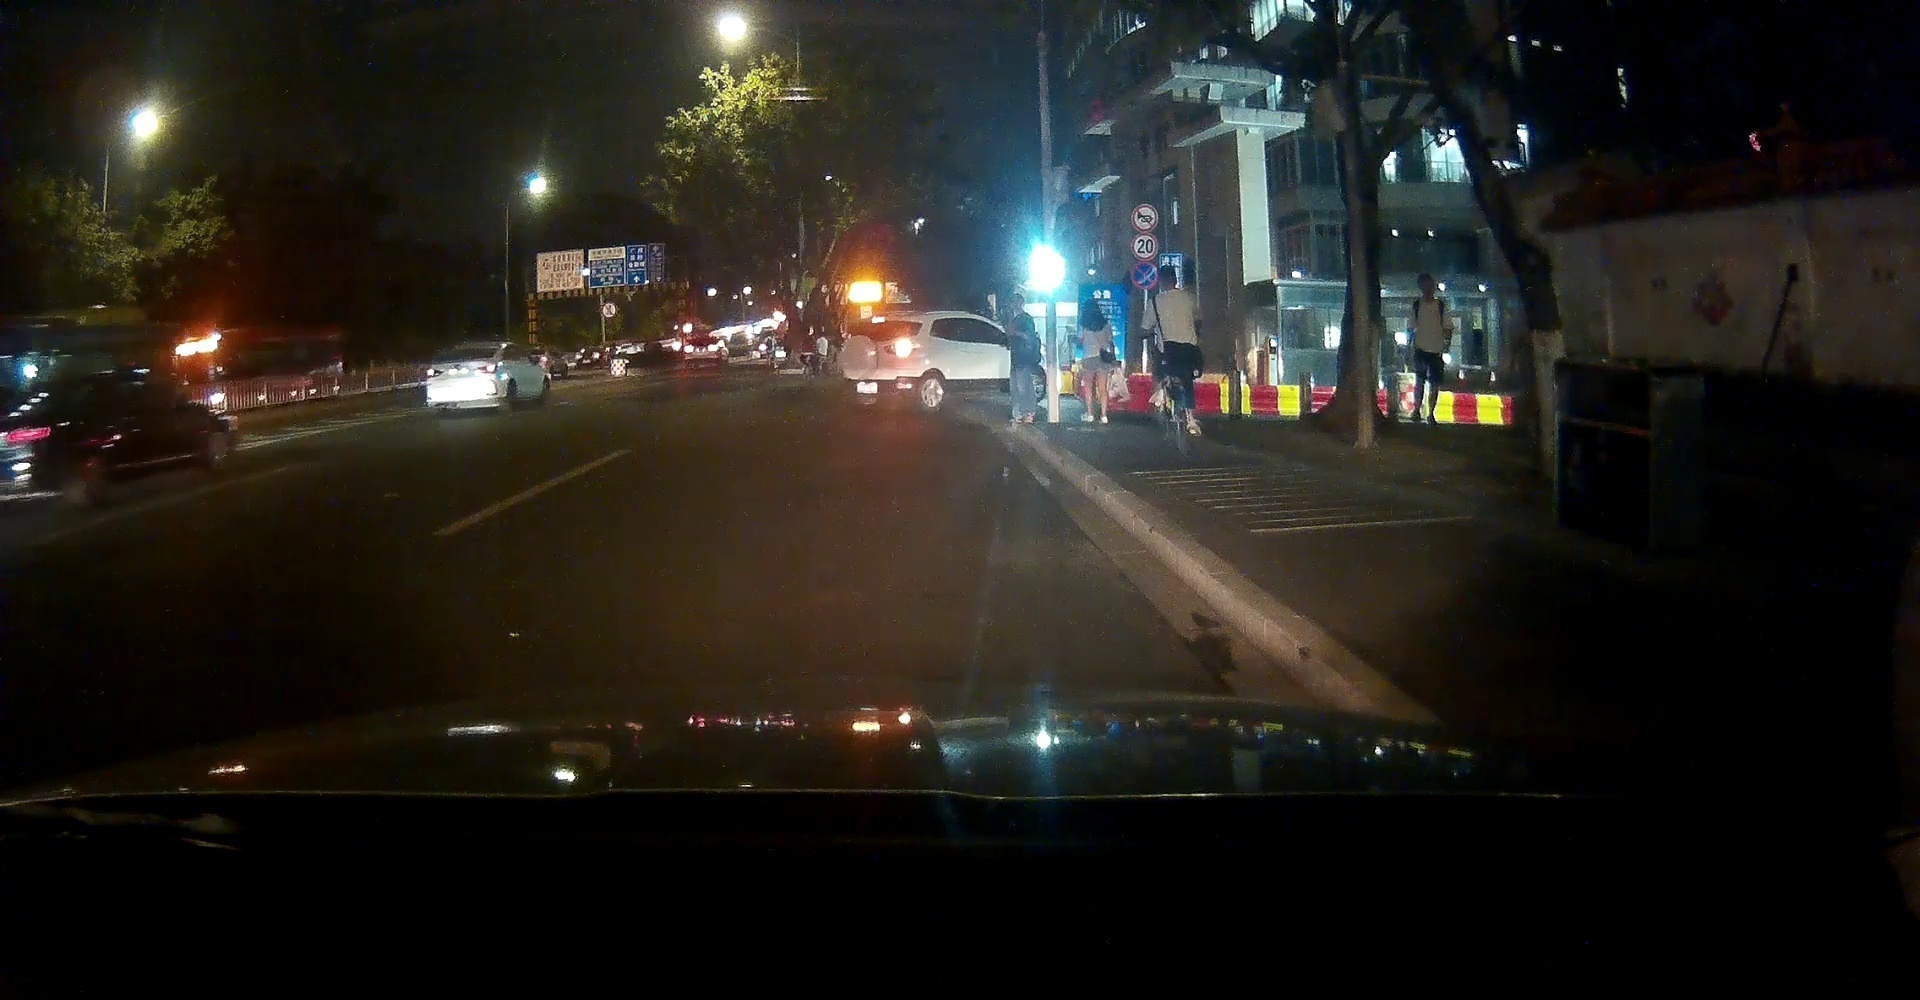L_light: (427, 368, 444, 378)
R_light: (477, 363, 498, 373)
T_light: (463, 346, 476, 350)
night-no: (425, 341, 503, 414)
